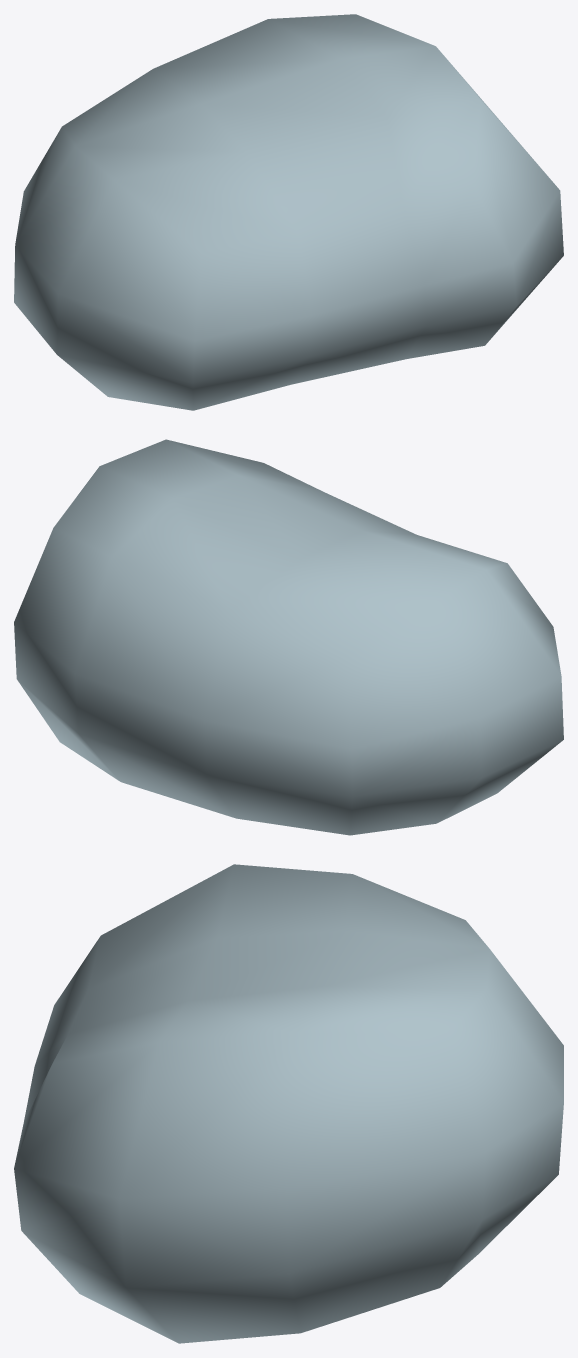
The model's file is Rock_A_03_LOD2.gltf.
The picture shows the model from 3 angles, top to bottom: view 1: azimuth 30°, elevation 25°; view 2: azimuth 150°, elevation 25°; view 3: azimuth 270°, elevation 25°; orthographic projection. The views are drawn at different scales.
Parts seen in each view (by area): view 1: Rock_A_03_LOD2_Cube.738; view 2: Rock_A_03_LOD2_Cube.738; view 3: Rock_A_03_LOD2_Cube.738.
Part boxes in pixels (<box>): Rock_A_03_LOD2_Cube.738: <box>14,14,563,410</box>; Rock_A_03_LOD2_Cube.738: <box>14,439,563,835</box>; Rock_A_03_LOD2_Cube.738: <box>14,864,563,1343</box>.
Bounding box in the file's own units: 3.01 × 1.52 × 2.45.
1 material, 1 textured.
